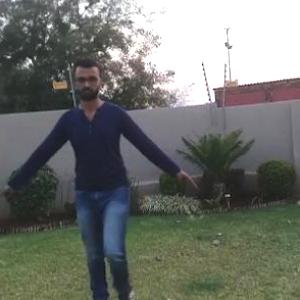land: (12, 67, 185, 299)
